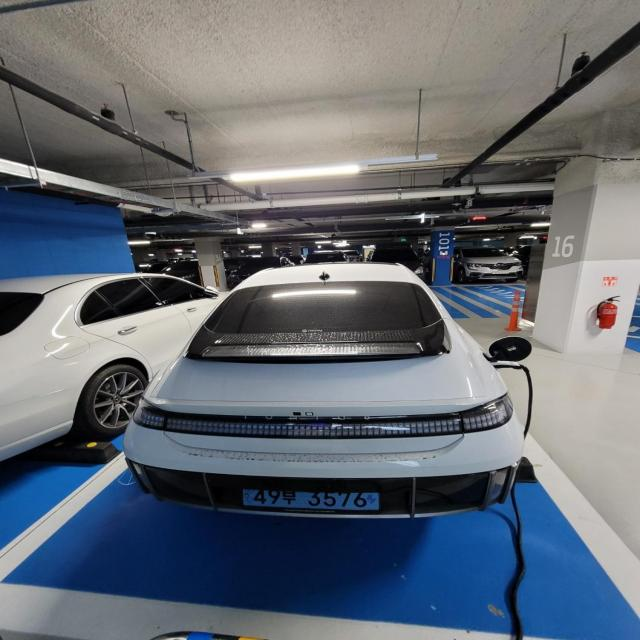EV_plate: (241, 486, 386, 520)
car: (125, 260, 530, 522)
